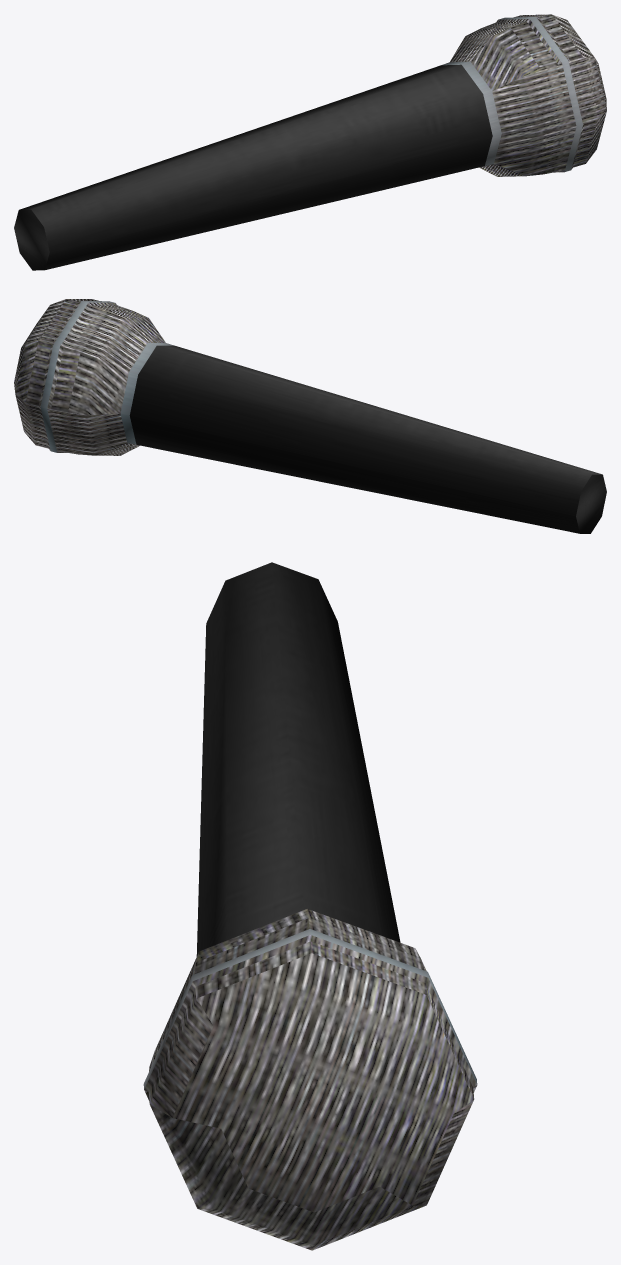
Rendered from DYNAMIC_MICROPHONE.fbx.
The picture shows the model from 3 angles, top to bottom: view 1: azimuth 30°, elevation 25°; view 2: azimuth 150°, elevation 25°; view 3: azimuth 270°, elevation 25°; orthographic projection. The views are drawn at different scales.
Visible parts, largest first — view 1: DYNAMIC_MICROPHONE; view 2: DYNAMIC_MICROPHONE; view 3: DYNAMIC_MICROPHONE.
Boxes of the visible parts, x1,y1,x2,y2 form: DYNAMIC_MICROPHONE: (14, 14, 606, 270); DYNAMIC_MICROPHONE: (14, 299, 606, 533); DYNAMIC_MICROPHONE: (143, 562, 477, 1250).
Bounding box in the file's own units: 19.38 × 5.07 × 5.07.
